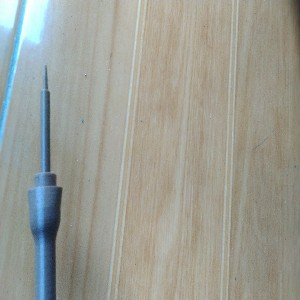solder: (26, 62, 63, 300)
